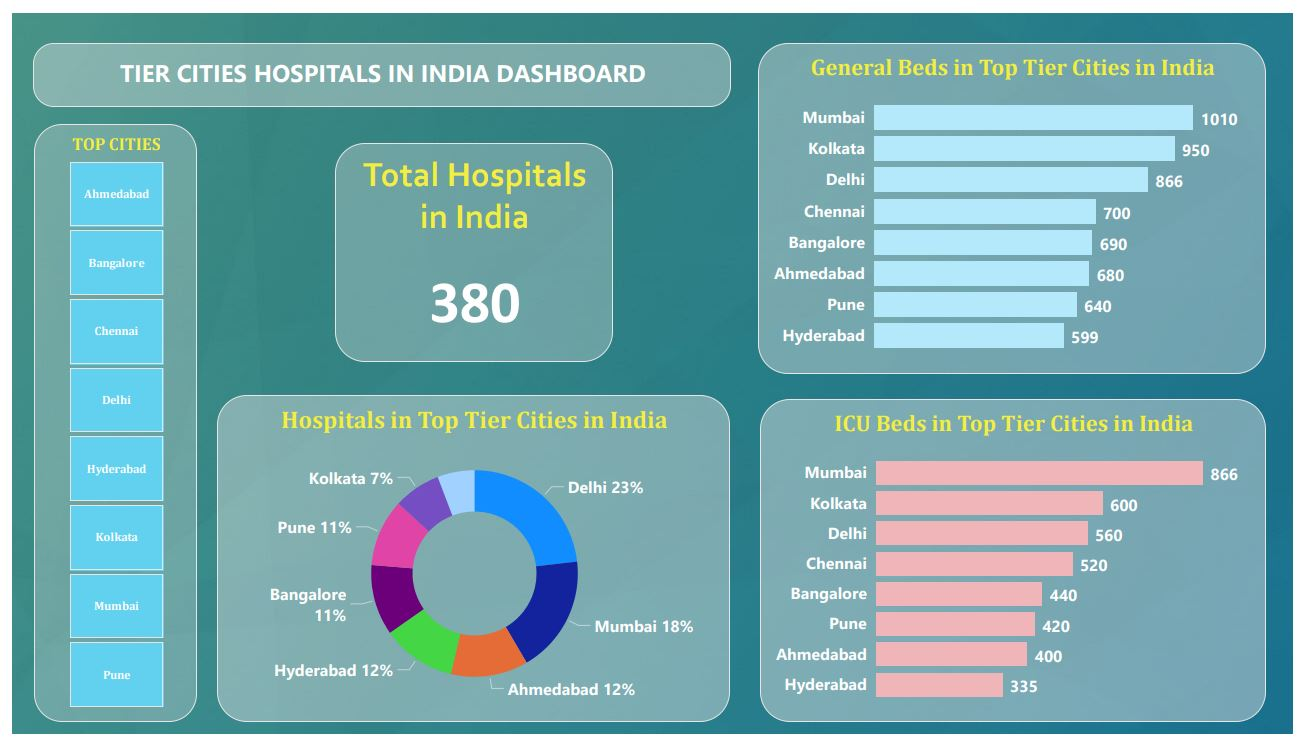

Layout of this report page (visuals, bound fields, positions):
{"tool":"powerbi","page":{"name":"Page 1","canvas":[1280,720],"ordinal":0},"visuals":[{"type":"card","title":"Total Hospitals  in India","fields":{"Values":["Sum(AYUSHHospitals.Number of Hospitals)"]},"box":[323.5,130.3,277.7,219],"z":0},{"type":"barChart","title":" General Beds in Top Tier Cities in India","fields":{"Y":["Sum(AYUSHHospitals.Number of  General Beds)"],"Category":["AYUSHHospitals.Top Tier Cities in India"]},"box":[745.8,30.1,508.2,330.7],"z":1000},{"type":"barChart","title":" ICU Beds in Top Tier Cities in India","fields":{"Y":["Sum(AYUSHHospitals.Number of ICU Beds)"],"Category":["AYUSHHospitals.Top Tier Cities in India"]},"box":[747.7,386.2,506.2,323.1],"z":2000},{"type":"donutChart","title":" Hospitals in Top Tier Cities in India","fields":{"Y":["Sum(AYUSHHospitals.Number of Hospitals)"],"Category":["AYUSHHospitals.Top Tier Cities in India"]},"box":[204.6,381.5,513.8,327.7],"z":3000},{"type":"textbox","box":[21.5,30.1,697.1,64.4],"z":4000},{"type":"slicer","title":"TOP CITIES","fields":{"Values":["AYUSHHospitals.Top Tier Cities in India"]},"box":[21.5,110.8,163.1,598.5],"z":5000}]}

Visuals, with their boxes in screenshot pixels (x1, y1, x2, y2), scaled from the page's 1280x720 canvas onto the 1304x746 screenshot:
"Total Hospitals  in India" card: (330, 135, 612, 362)
" General Beds in Top Tier Cities in India" barChart: (760, 31, 1278, 374)
" ICU Beds in Top Tier Cities in India" barChart: (762, 400, 1277, 735)
" Hospitals in Top Tier Cities in India" donutChart: (208, 395, 732, 735)
textbox: (22, 31, 732, 98)
"TOP CITIES" slicer: (22, 115, 188, 735)
